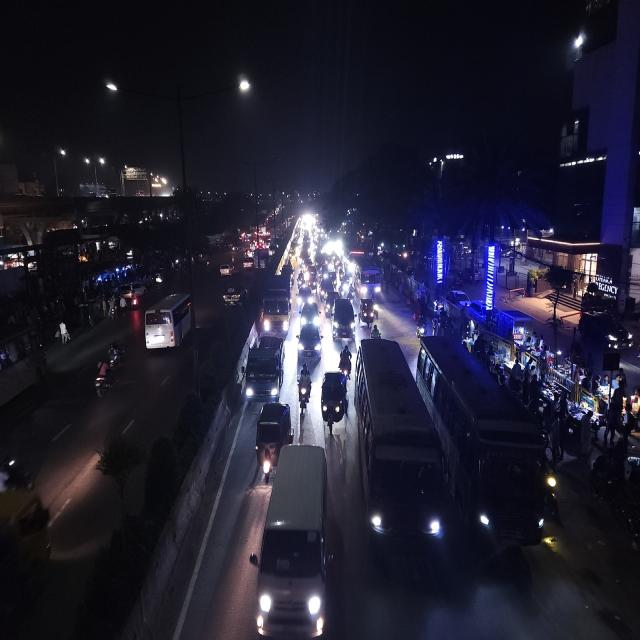bus: (428, 338, 559, 561), (352, 336, 443, 574), (142, 289, 195, 360), (570, 0, 623, 57), (353, 257, 382, 300)
car: (258, 442, 334, 640), (142, 289, 195, 359), (255, 398, 291, 483), (296, 302, 322, 362), (332, 295, 356, 344), (221, 278, 248, 312), (298, 300, 322, 332), (297, 284, 314, 308), (218, 260, 235, 278)
cng: (321, 368, 348, 436), (360, 296, 377, 326)
motorcycle: (92, 340, 126, 398), (297, 362, 313, 417), (338, 344, 352, 380), (370, 322, 382, 339), (296, 270, 306, 290)
pickup_van: (245, 331, 287, 405)
truck: (261, 273, 293, 338)
